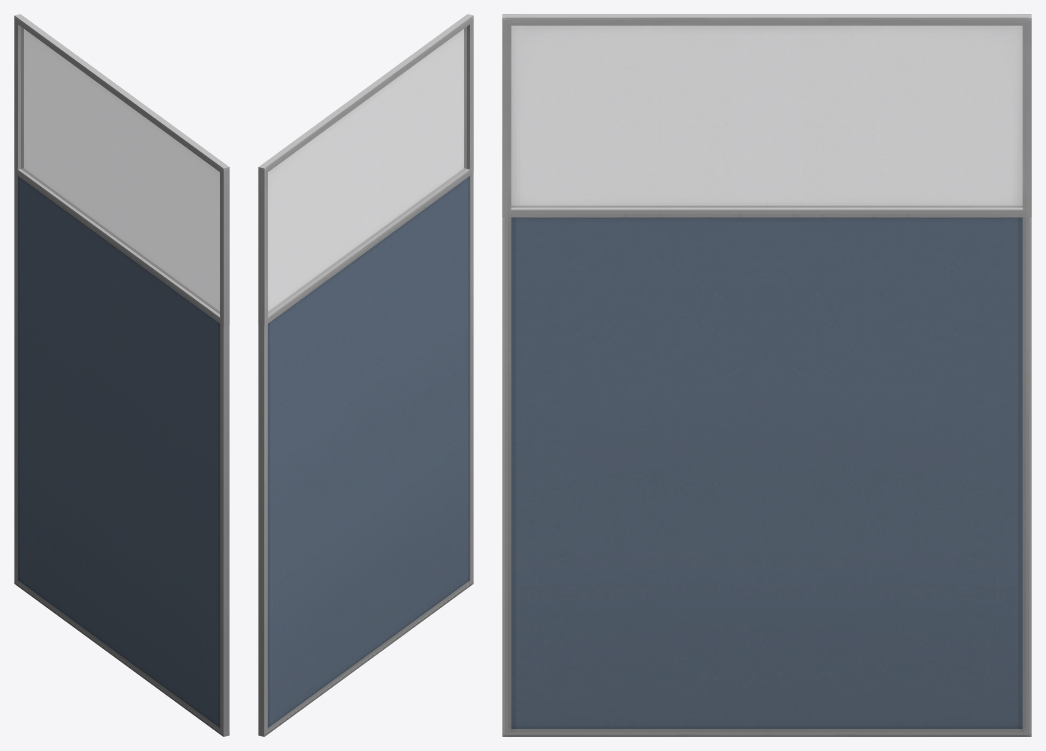
Rendered from Divider.glb.
The picture shows the model from 3 angles, left to right: view 1: azimuth 30°, elevation 25°; view 2: azimuth 150°, elevation 25°; view 3: azimuth 270°, elevation 25°; orthographic projection. The views are drawn at different scales.
Visible parts, largest first — view 1: divider; view 2: divider; view 3: divider.
Part boxes in pixels (<box>): divider: <box>14,14,229,736</box>; divider: <box>258,14,473,736</box>; divider: <box>502,14,1031,736</box>.
Size of the model in its own units: 0.02 by 1.8 by 1.2.
2 materials, 2 textured.
